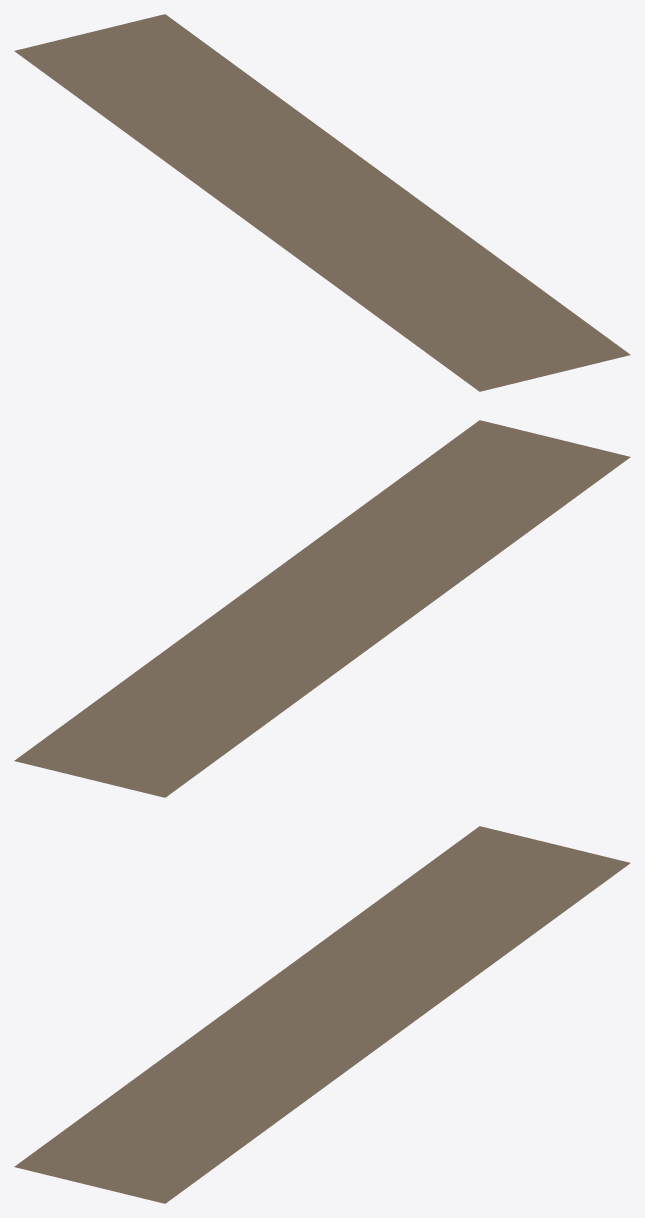
The picture shows the model from 3 angles, top to bottom: view 1: azimuth 30°, elevation 25°; view 2: azimuth 150°, elevation 25°; view 3: azimuth 330°, elevation 25°; orthographic projection.
Size of the model in its own units: 0.1875 by 0 by 1.
Materials: 1 (1 with a texture image).
